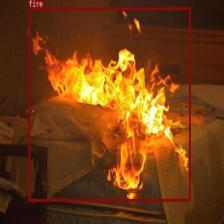fire: (28, 7, 191, 201)
